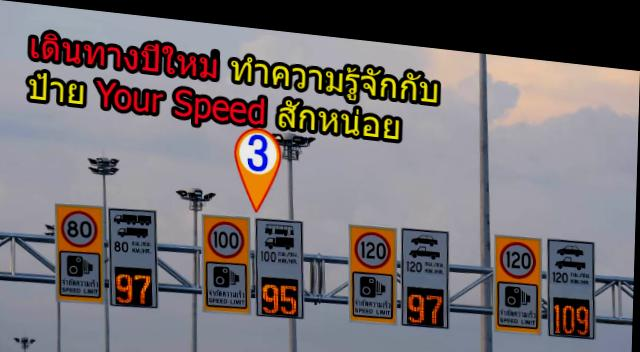limit100: (209, 214, 247, 255)
limit120: (355, 221, 393, 264), (500, 228, 538, 269)
limit80: (61, 203, 100, 246)
